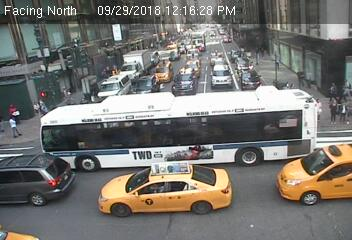car: (37, 91, 319, 169), (97, 166, 234, 215), (276, 147, 352, 207), (1, 155, 74, 205), (121, 49, 152, 77), (98, 75, 132, 98), (173, 67, 198, 94), (130, 74, 157, 97), (1, 224, 40, 239), (211, 65, 234, 89), (155, 60, 173, 82), (243, 69, 260, 90), (182, 60, 202, 76), (192, 31, 207, 51), (234, 57, 254, 70), (185, 49, 199, 57), (222, 34, 232, 43), (165, 40, 174, 49)
